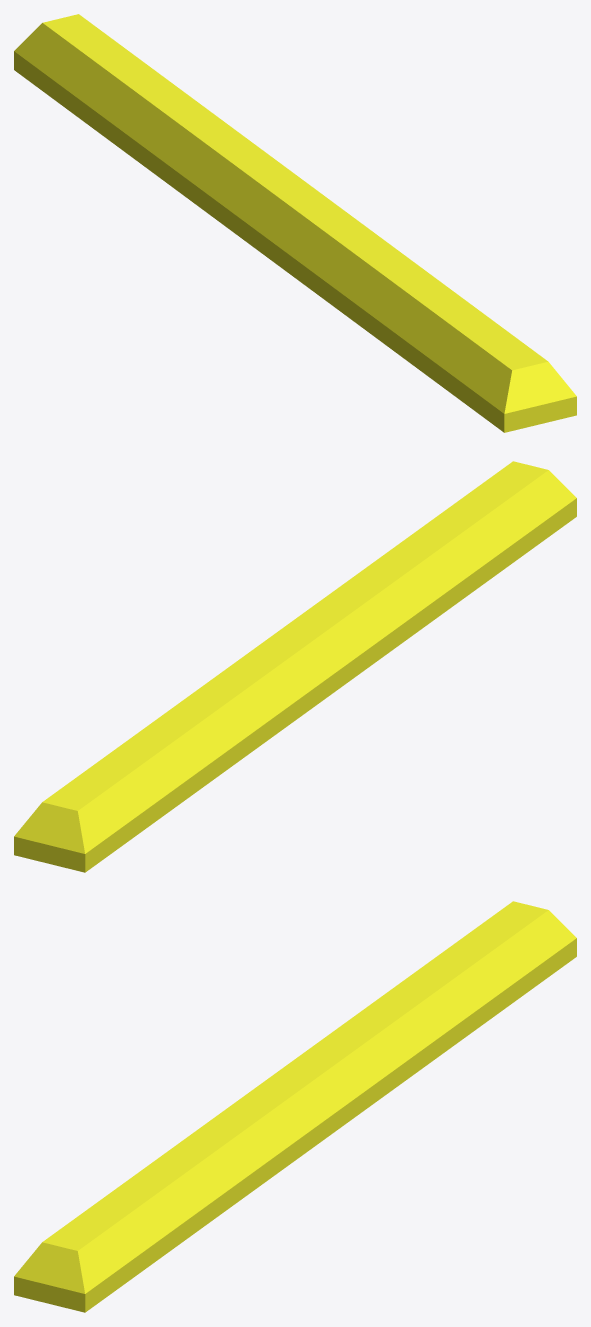
File: block.dae
3 views of the same model, one above another, from view 1: azimuth 30°, elevation 25°; view 2: azimuth 150°, elevation 25°; view 3: azimuth 330°, elevation 25° (orthographic).
Parts seen in each view (by area): view 1: SketchUp; view 2: SketchUp; view 3: SketchUp.
Boxes of the visible parts, box(x1,y1,x2,y2) form: SketchUp: box(14, 14, 576, 432); SketchUp: box(14, 461, 576, 872); SketchUp: box(14, 901, 576, 1312).
Bounding box in the file's own units: 6.34 × 71.03 × 4.
